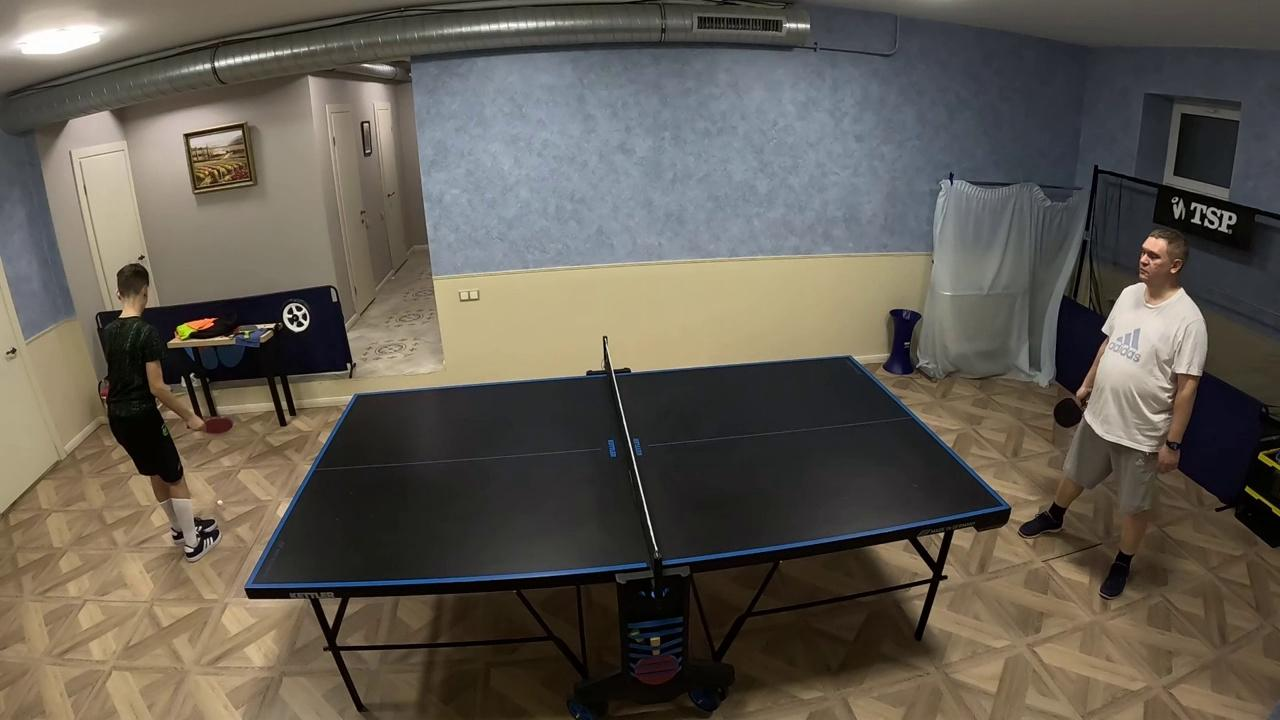Ball: (215, 496, 224, 509)
Net: (602, 336, 663, 587)
Player1: (101, 264, 218, 559)
Player2: (1020, 228, 1207, 599)
Table: (247, 373, 641, 589), (617, 357, 1009, 569)
